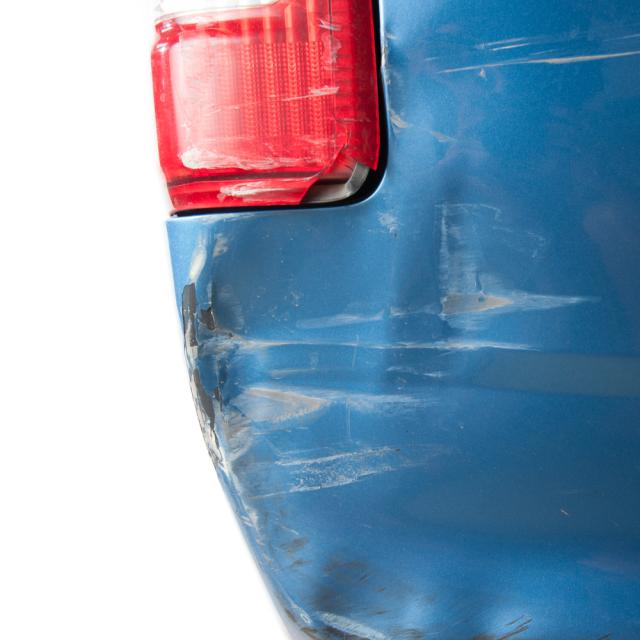Phare abime: (283, 120, 398, 230)
Rayure: (158, 255, 640, 640)
